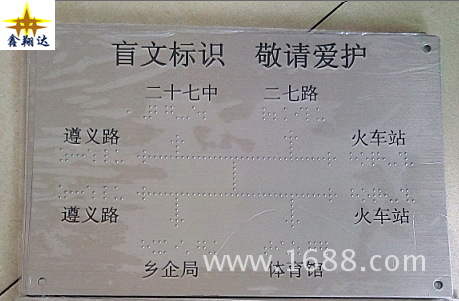Braille: (290, 240, 302, 256), (403, 151, 415, 167), (307, 240, 318, 257), (319, 240, 330, 257), (81, 147, 92, 163), (114, 185, 125, 201), (405, 188, 416, 204), (372, 187, 383, 203), (316, 107, 327, 123), (164, 104, 174, 121), (175, 104, 185, 121), (197, 104, 207, 121), (81, 184, 91, 201), (384, 187, 394, 204), (59, 148, 70, 163), (70, 148, 81, 163), (92, 148, 103, 163), (152, 240, 163, 255), (174, 240, 185, 255), (263, 241, 274, 256), (350, 188, 361, 203), (305, 107, 316, 122), (143, 104, 153, 120), (115, 149, 125, 165), (58, 184, 68, 200), (70, 184, 80, 200), (92, 185, 102, 201), (103, 185, 113, 201), (208, 240, 218, 256), (360, 151, 370, 167), (371, 151, 381, 167), (382, 151, 392, 167), (361, 187, 371, 203), (272, 106, 282, 122), (154, 104, 163, 121), (186, 105, 196, 120), (163, 240, 173, 255), (185, 240, 195, 255), (197, 240, 207, 255), (275, 241, 285, 256), (349, 151, 359, 166), (283, 107, 293, 122), (104, 149, 113, 165), (394, 151, 403, 167), (141, 240, 151, 254), (395, 188, 404, 203), (295, 107, 304, 122), (262, 107, 271, 121)
